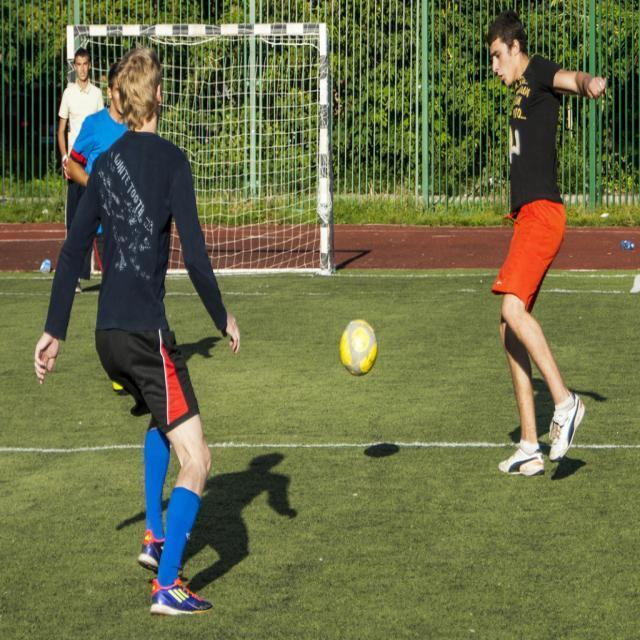football: (322, 302, 398, 389)
